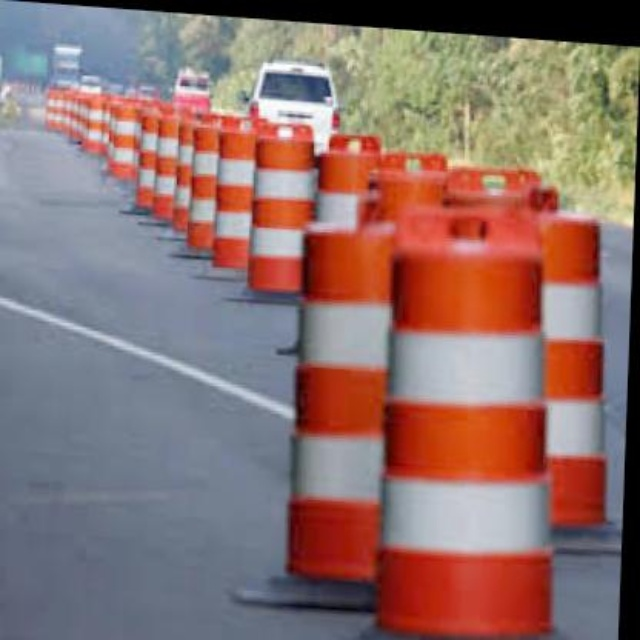obstacle: (358, 207, 568, 640)
